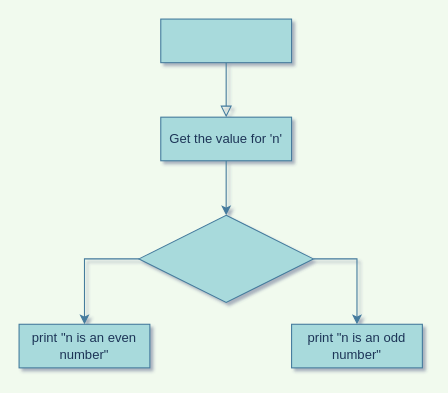
Some shapes in this 448 by 393 pixel diagram are drawn without their labels. The shapes that lost their labels are listed below. From the top down, each one's centre as x and y in pixels, then its label:
At [226,40]: "Start".
At [225,258]: "n%2 == 0".
